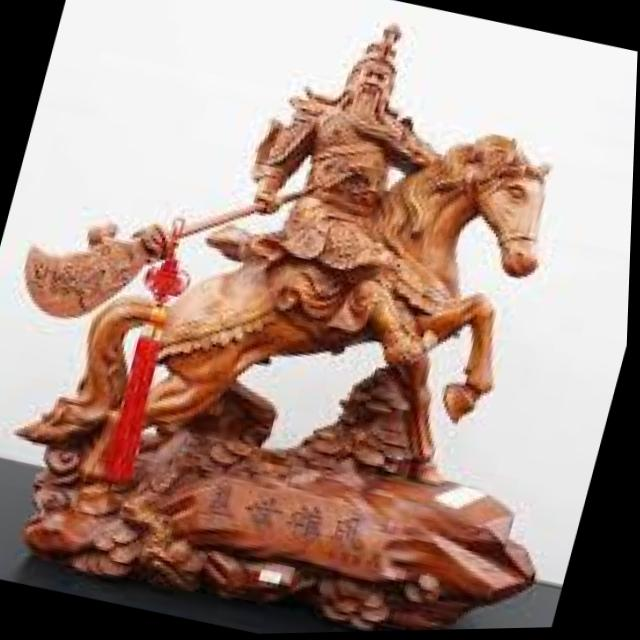Guan Yu: (234, 0, 458, 275)
